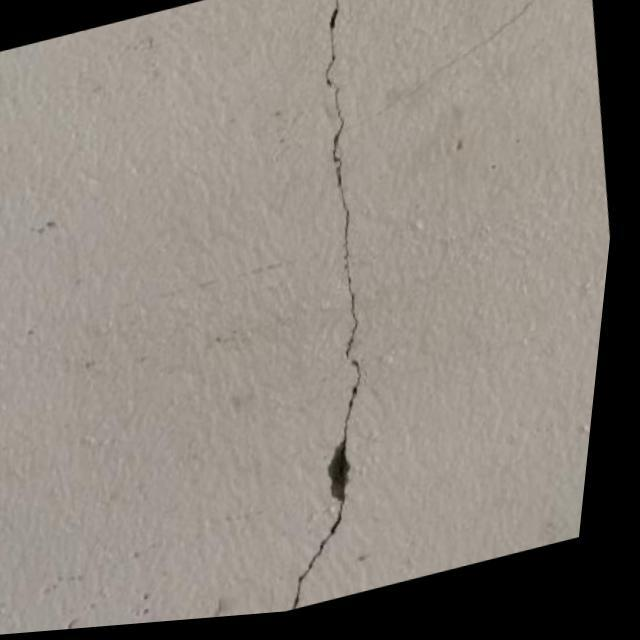Crack: (289, 7, 367, 587)
